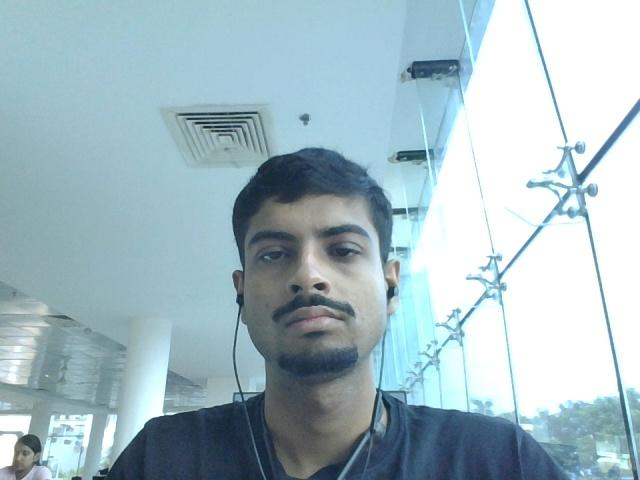confident: (200, 140, 451, 436)
